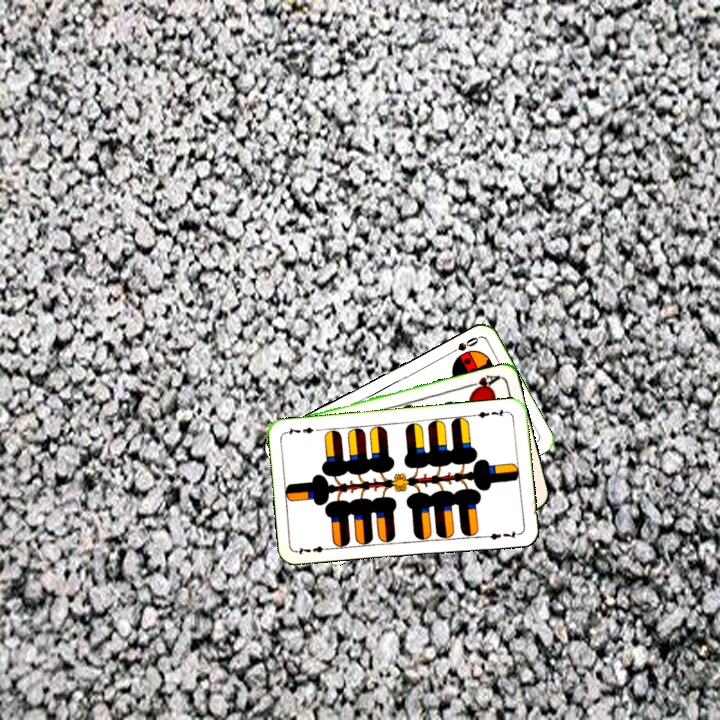E7: (470, 405, 511, 420), (293, 542, 334, 557)
HA: (462, 371, 502, 395)
SO: (443, 333, 481, 357)
